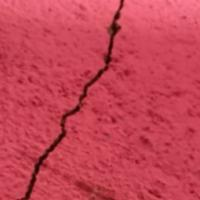crack: (11, 0, 145, 199)
